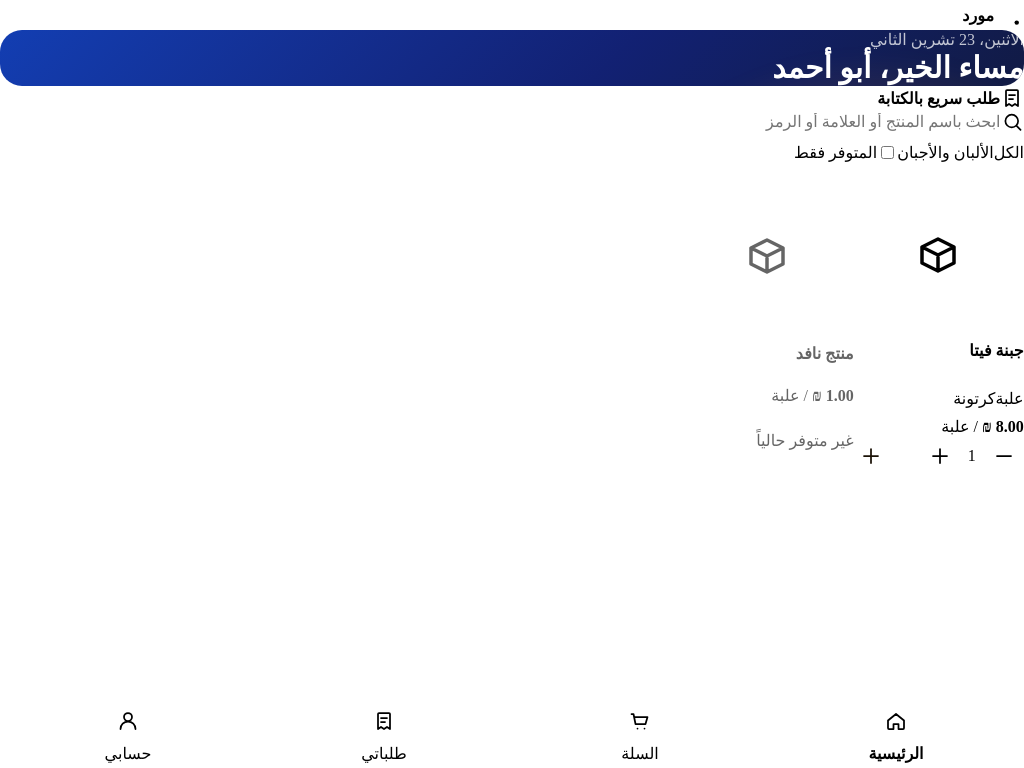
التفاصيل والعمل بلا نت في واجهة المحل › النقر على المنتج يفتح تفاصيله بكل الوحدات والأسعار
The width and height of the screenshot is (1024, 768).
Click the button named "تفاصيل جبنة فيتا".
click(939, 256)  # box x1=853 y1=170 x2=1023 y2=341
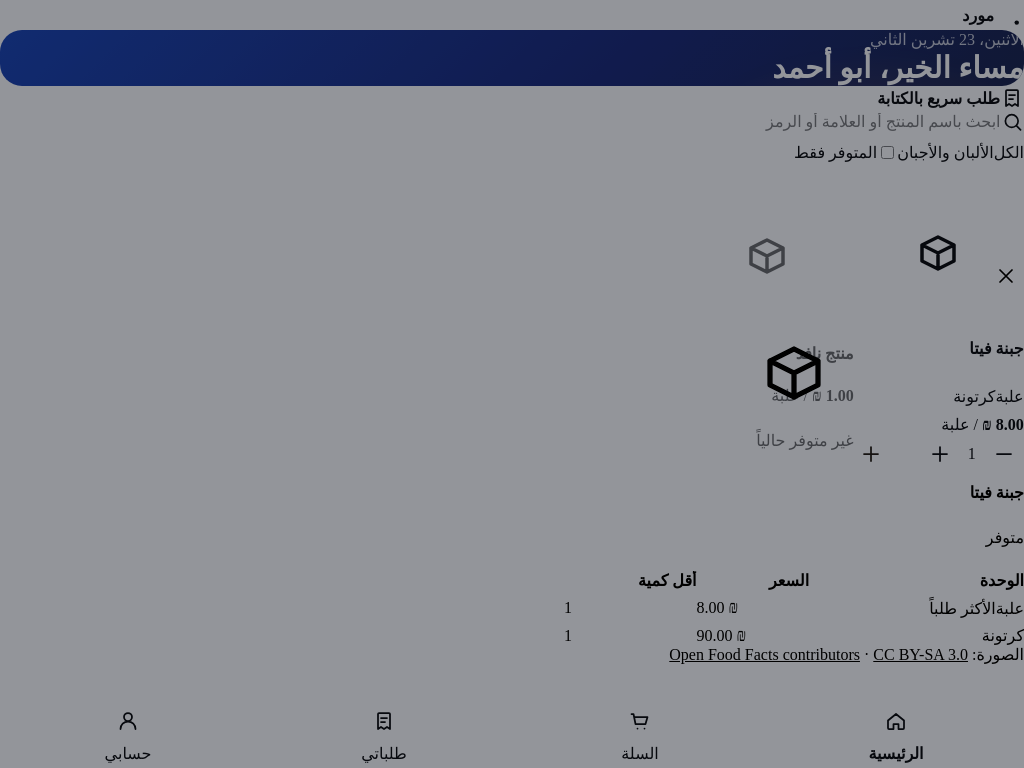
Now the dialog shows "كرتونة", box x1=982 y1=627 x2=1023 y2=644
Now the dialog shows "90.00 ₪", box x1=696 y1=626 x2=746 y2=644
